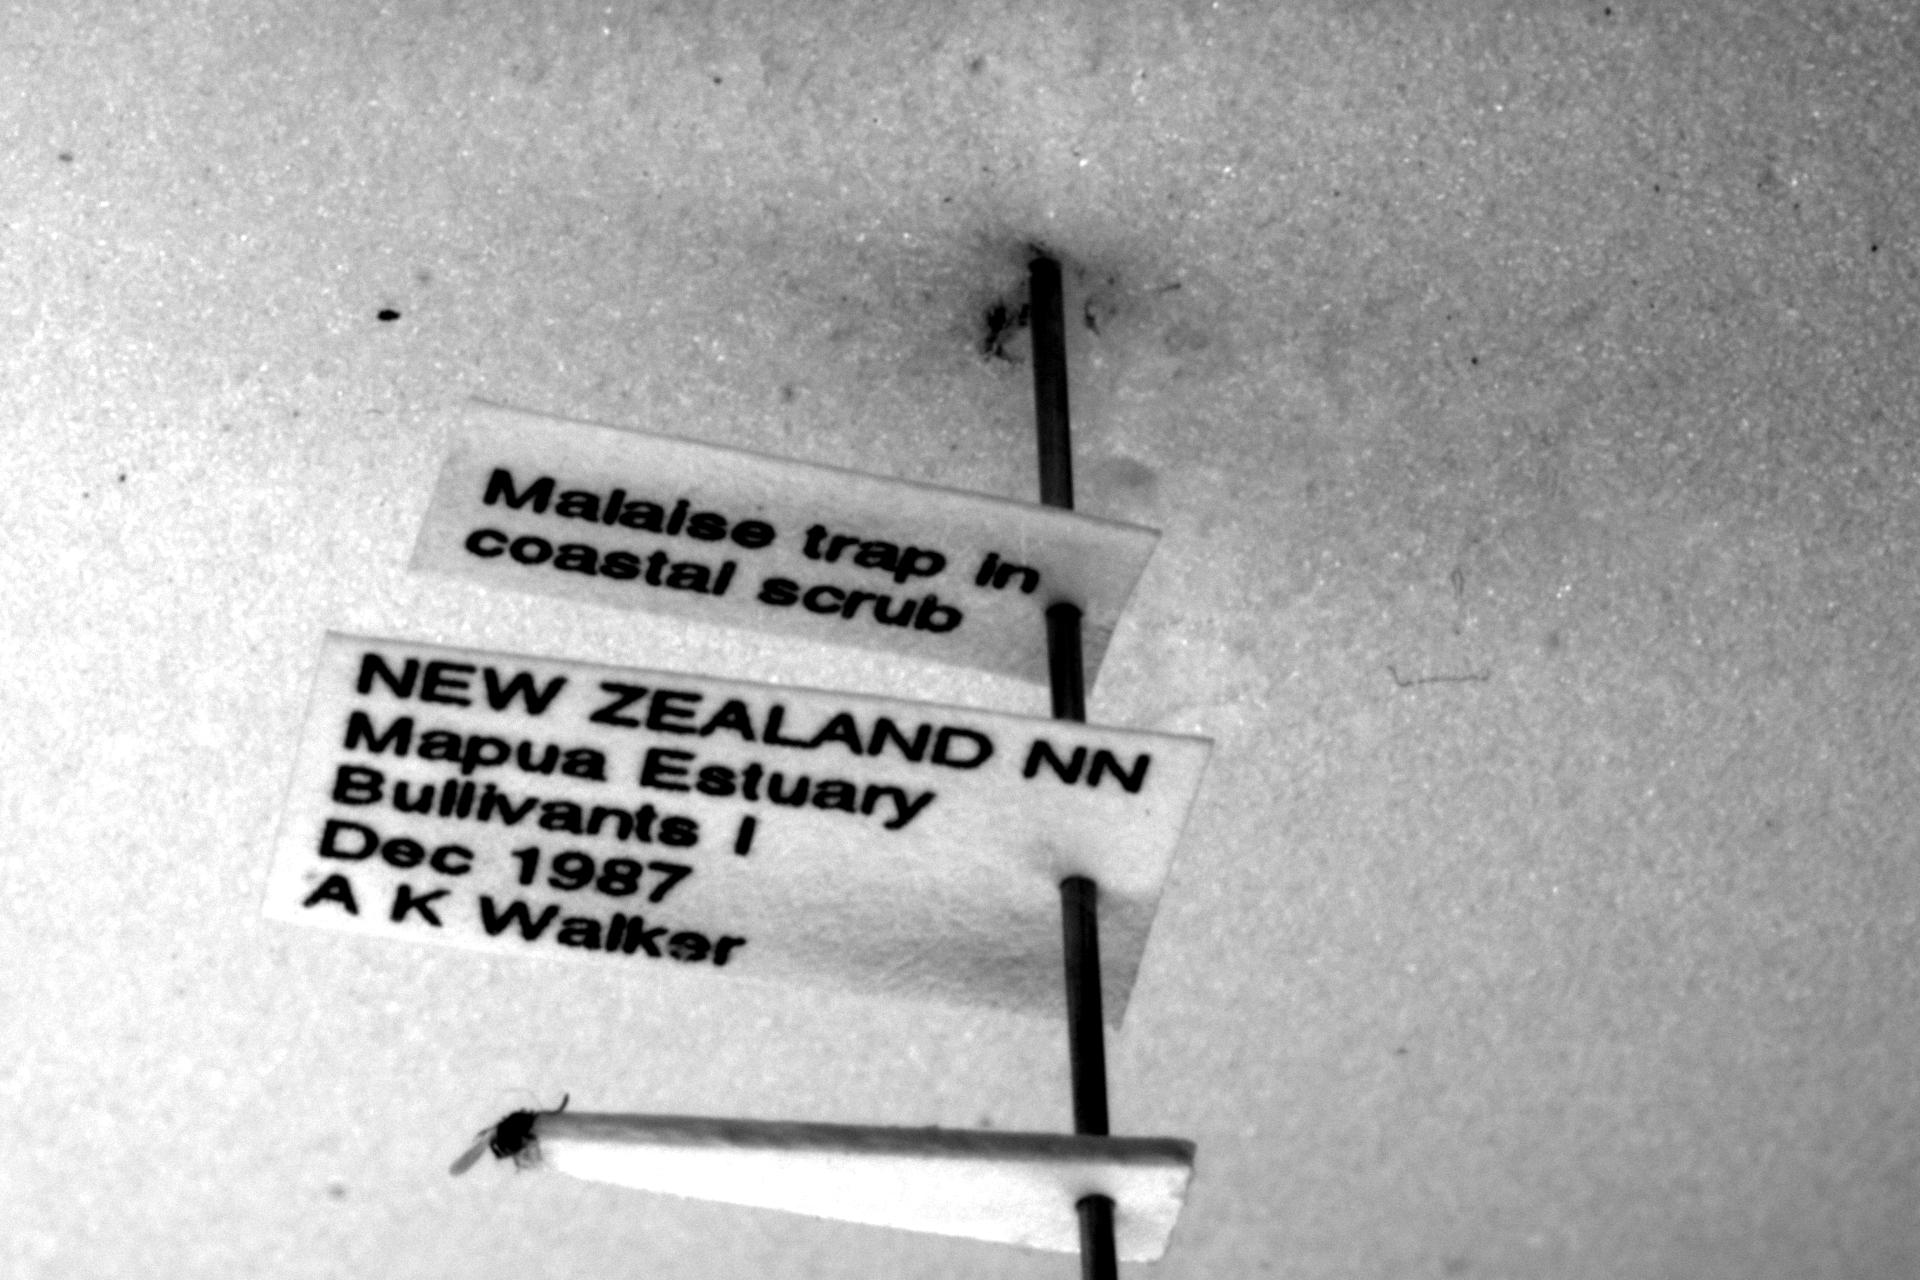typed_label: (266, 634, 1211, 1024), (412, 401, 1159, 682)
